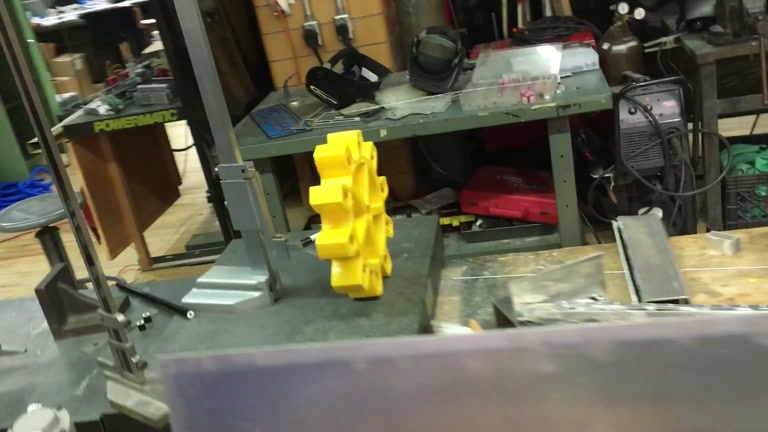gear: (308, 128, 394, 301)
